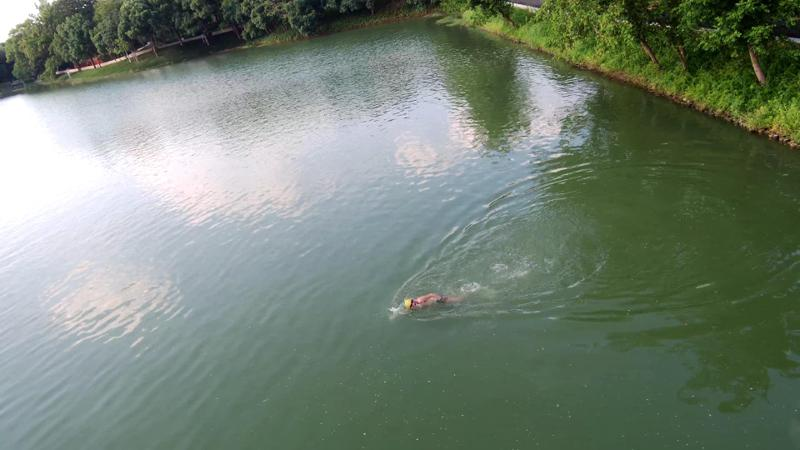swimmers: (388, 282, 478, 321)
